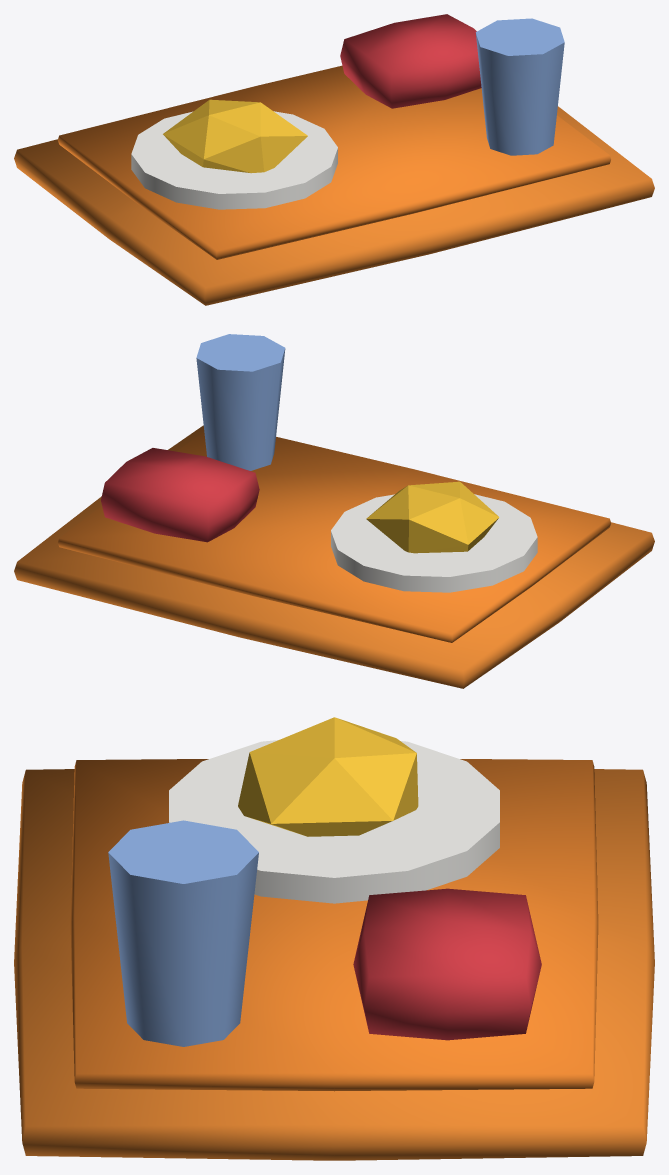
The model's file is lunch_tray.glb.
3 renders of one model, top to bottom at view 1: azimuth 30°, elevation 25°; view 2: azimuth 150°, elevation 25°; view 3: azimuth 270°, elevation 25°, orthographic. The views are drawn at different scales.
Visible parts, largest first — view 1: root; view 2: root; view 3: root.
Boxes of the visible parts, x1=… form: root: x1=14, y1=14, x2=654, y2=305; root: x1=14, y1=334, x2=654, y2=688; root: x1=14, y1=717, x2=654, y2=1160.
Bounding box in the file's own units: 0.46 × 0.145 × 0.34.
